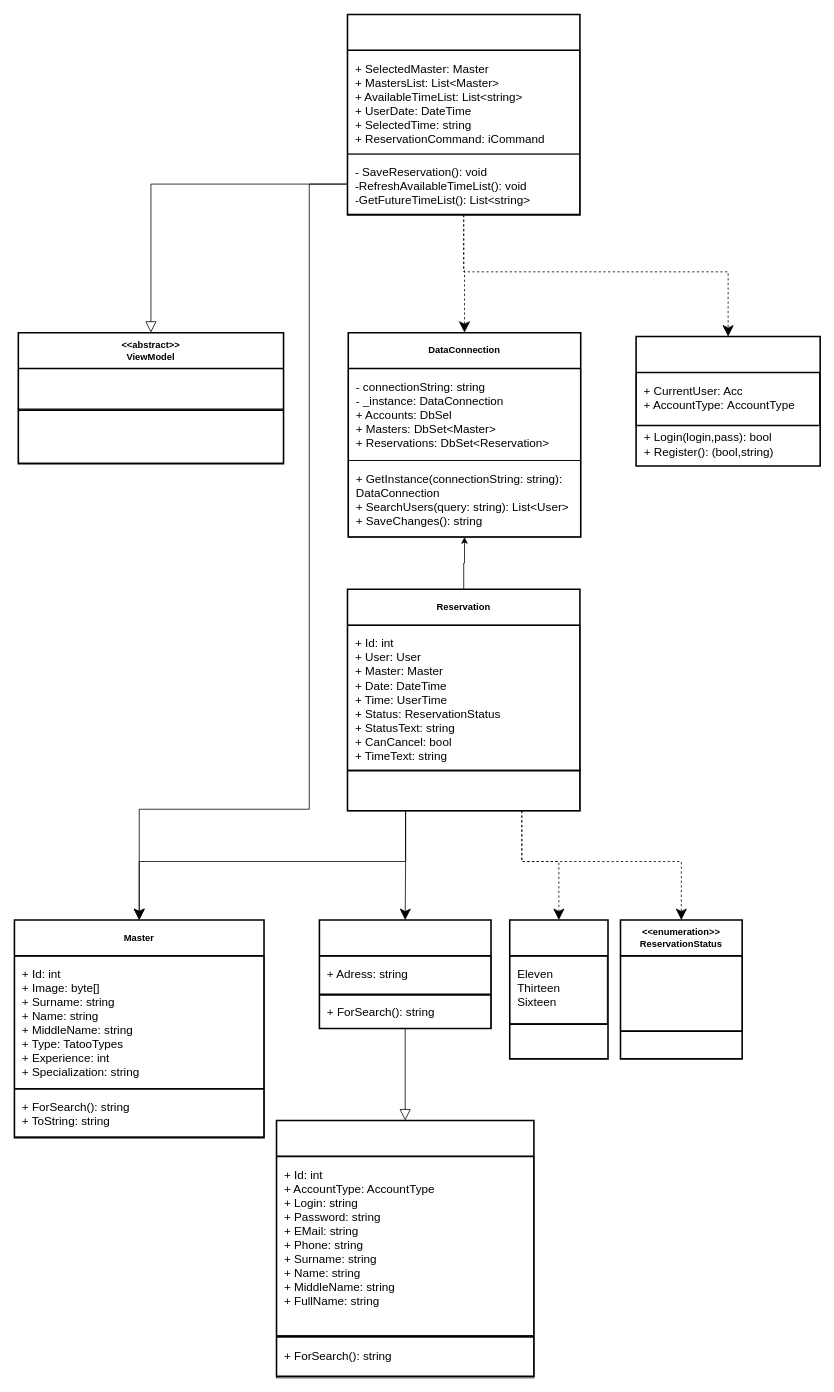
This 834x1392 diagram has some shape labels left out. Here are the shapes that lost their labels. From the top down, the box of each, then its label:
(346, 13, 580, 215): ReservationViewModel
(18, 368, 284, 409): + PropertyChange: event
(635, 335, 821, 466): <<static>> Manager
(18, 408, 284, 463): # OnPropertyChange(name): void # SetProperty(ref field, value, name): bool
(347, 769, 580, 811): + GetReservationDateTime(): DateTime
(318, 919, 491, 1029): User
(509, 919, 608, 1059): <<enumeration>> UserTime
(620, 955, 742, 1031): Pending Confirmed Cancelled Visited
(275, 1119, 534, 1377): <<abstract>> Acc
